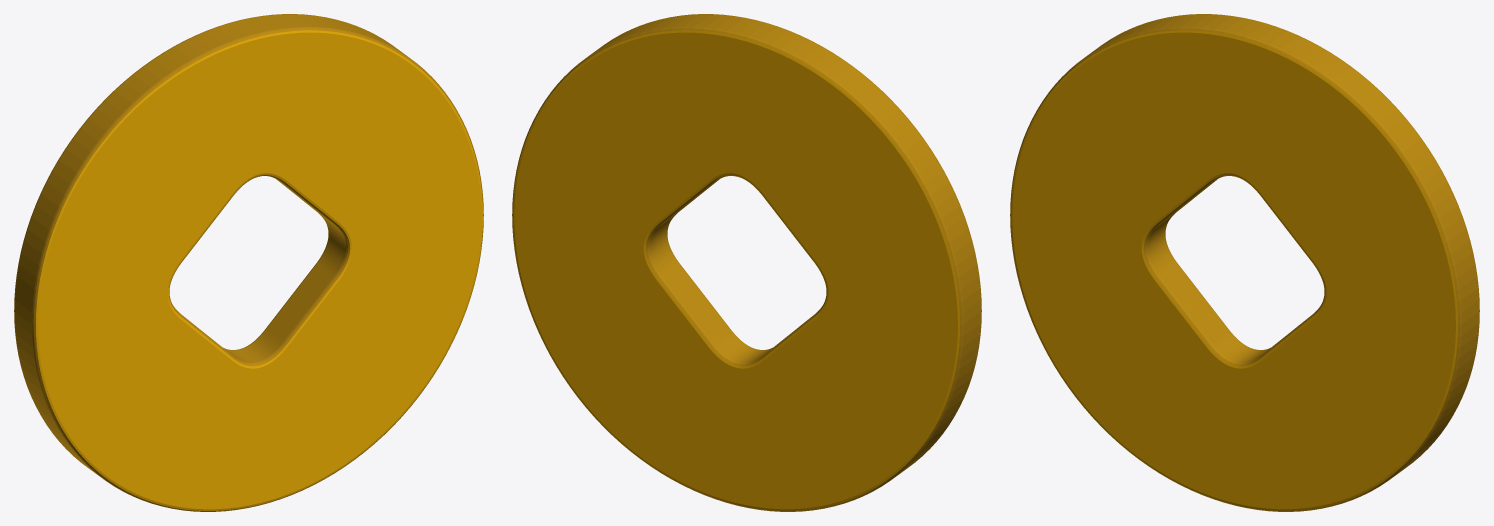
File: futo-coin.glb
3 views of the same model, side by side, from view 1: azimuth 30°, elevation 25°; view 2: azimuth 150°, elevation 25°; view 3: azimuth 330°, elevation 25° (orthographic).
Visible parts, largest first — view 1: FutoCoin; view 2: FutoCoin; view 3: FutoCoin.
Boxes of the visible parts, bbox=[...] form: FutoCoin: bbox=[14, 14, 483, 511]; FutoCoin: bbox=[512, 14, 981, 511]; FutoCoin: bbox=[1010, 14, 1479, 511].
Size of the model in its own units: 0.7 by 0.7 by 0.0583.
